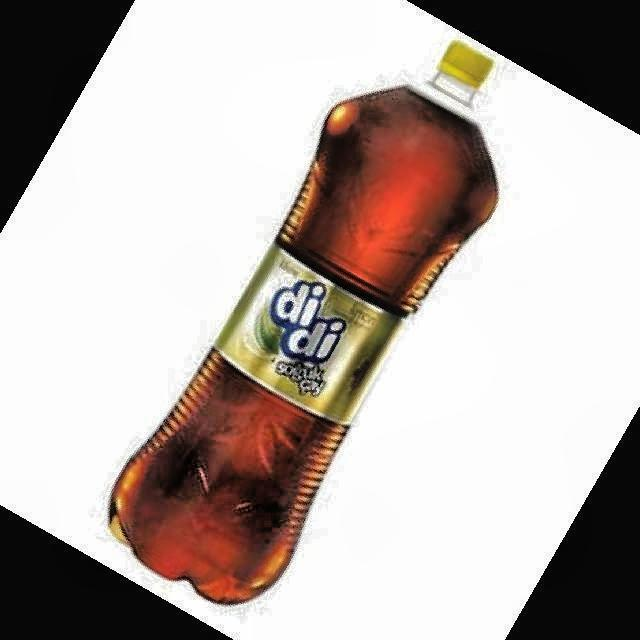plastic: (109, 42, 499, 602)
